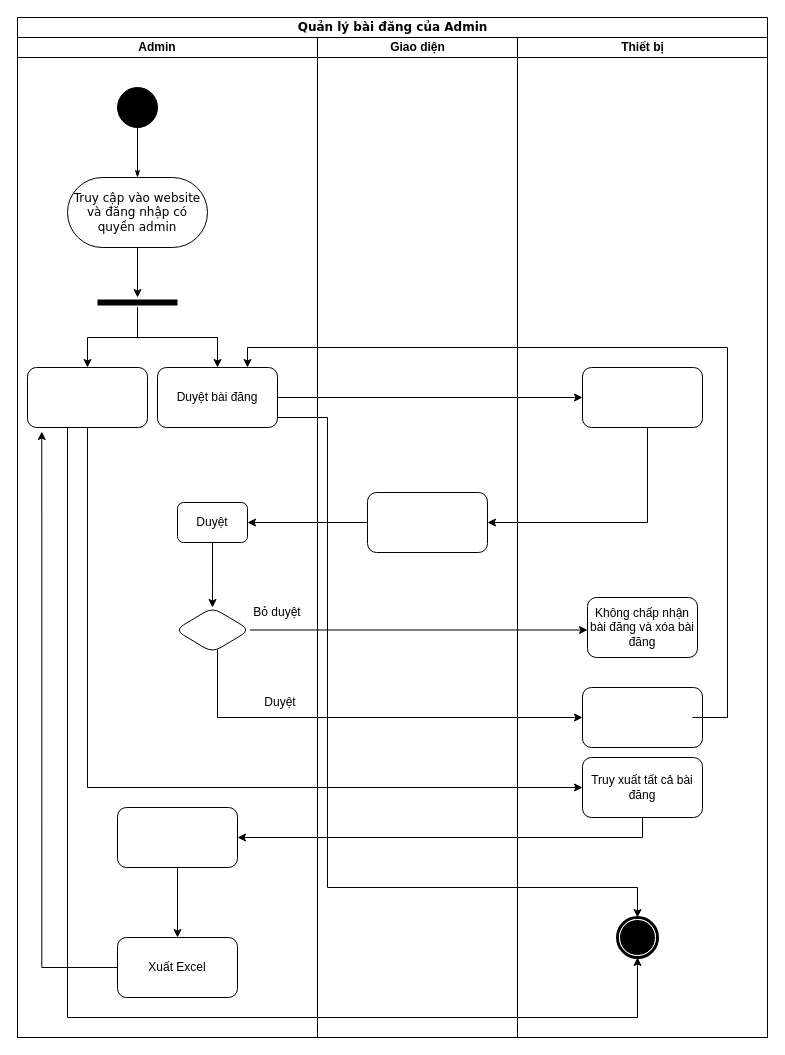
Image size: 785x1055. Some labels were removed from this diagram. Here are the shapes that lost their labels. From the top down, the centre of each, then its label:
At (x=87, y=397): "Thống kê".
At (x=642, y=397): "Truy xuất các bài đăng chờ được duyệt".
At (x=427, y=522): "Hiển thị giao diện duyệt bài đăng".
At (x=642, y=717): "Cho phép bài đăng hiển thị".
At (x=177, y=837): "Xuất thống kê bài đăng".
